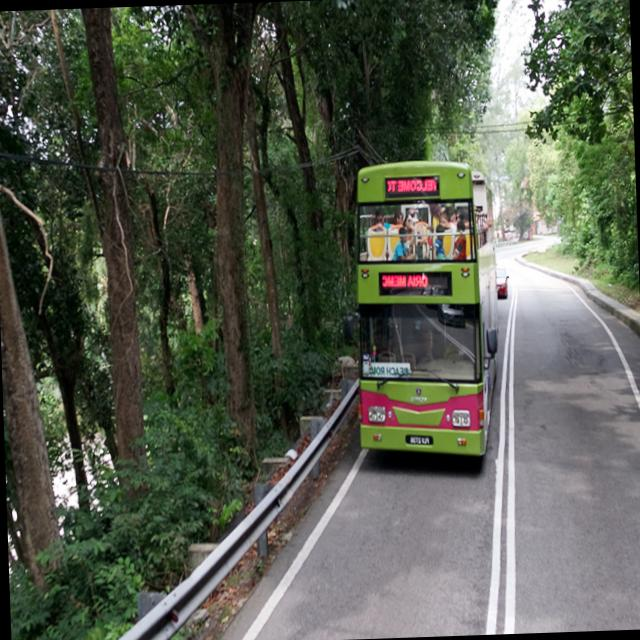bus: (336, 156, 504, 463)
